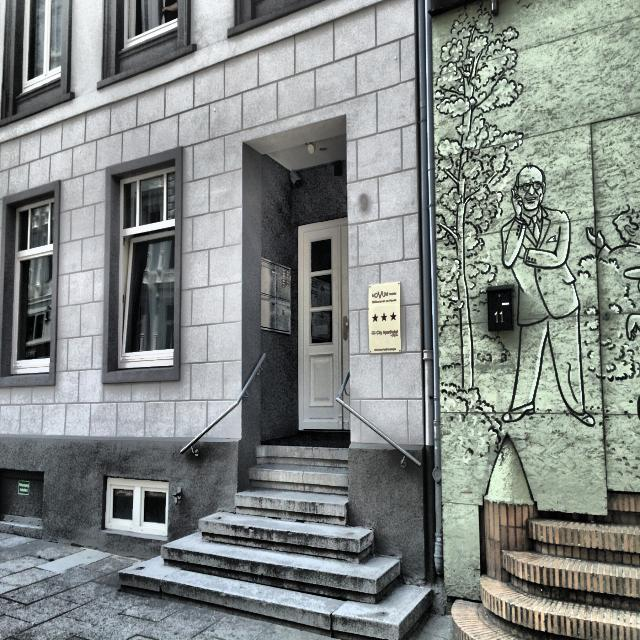escada: (118, 442, 430, 640)
